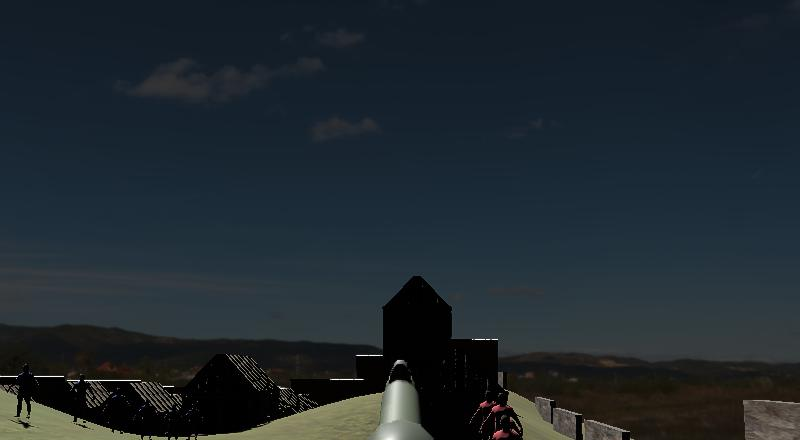House: (180, 349, 283, 437)
Human: (480, 389, 527, 440), (466, 388, 503, 438)
